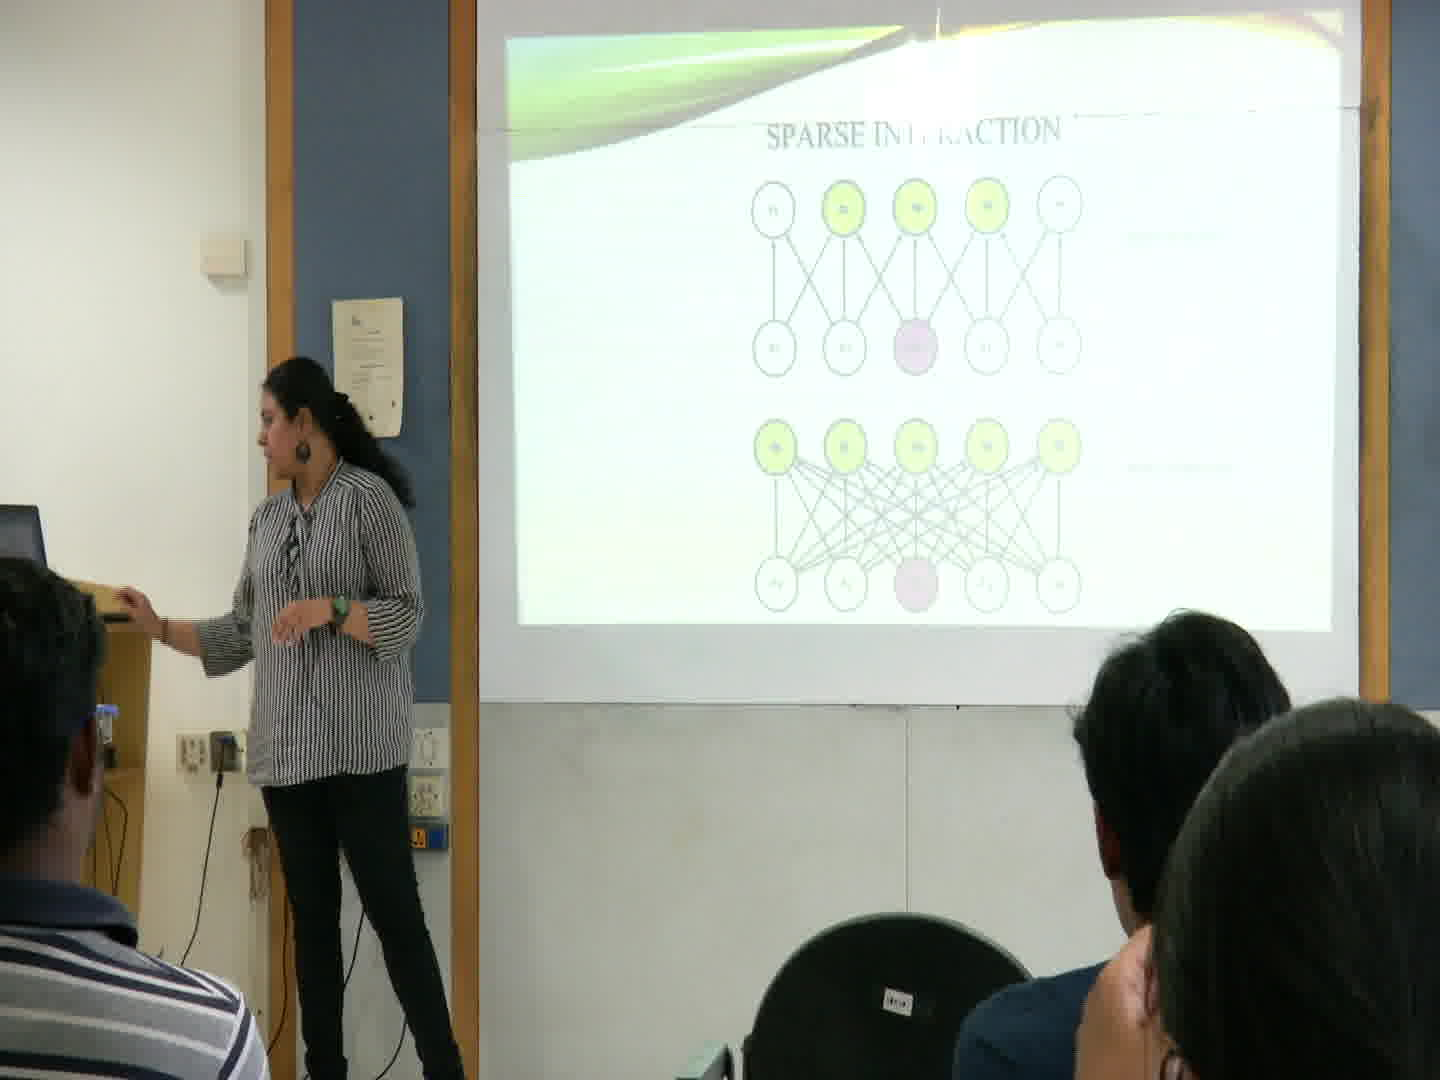fig: (743, 174, 1090, 378)
